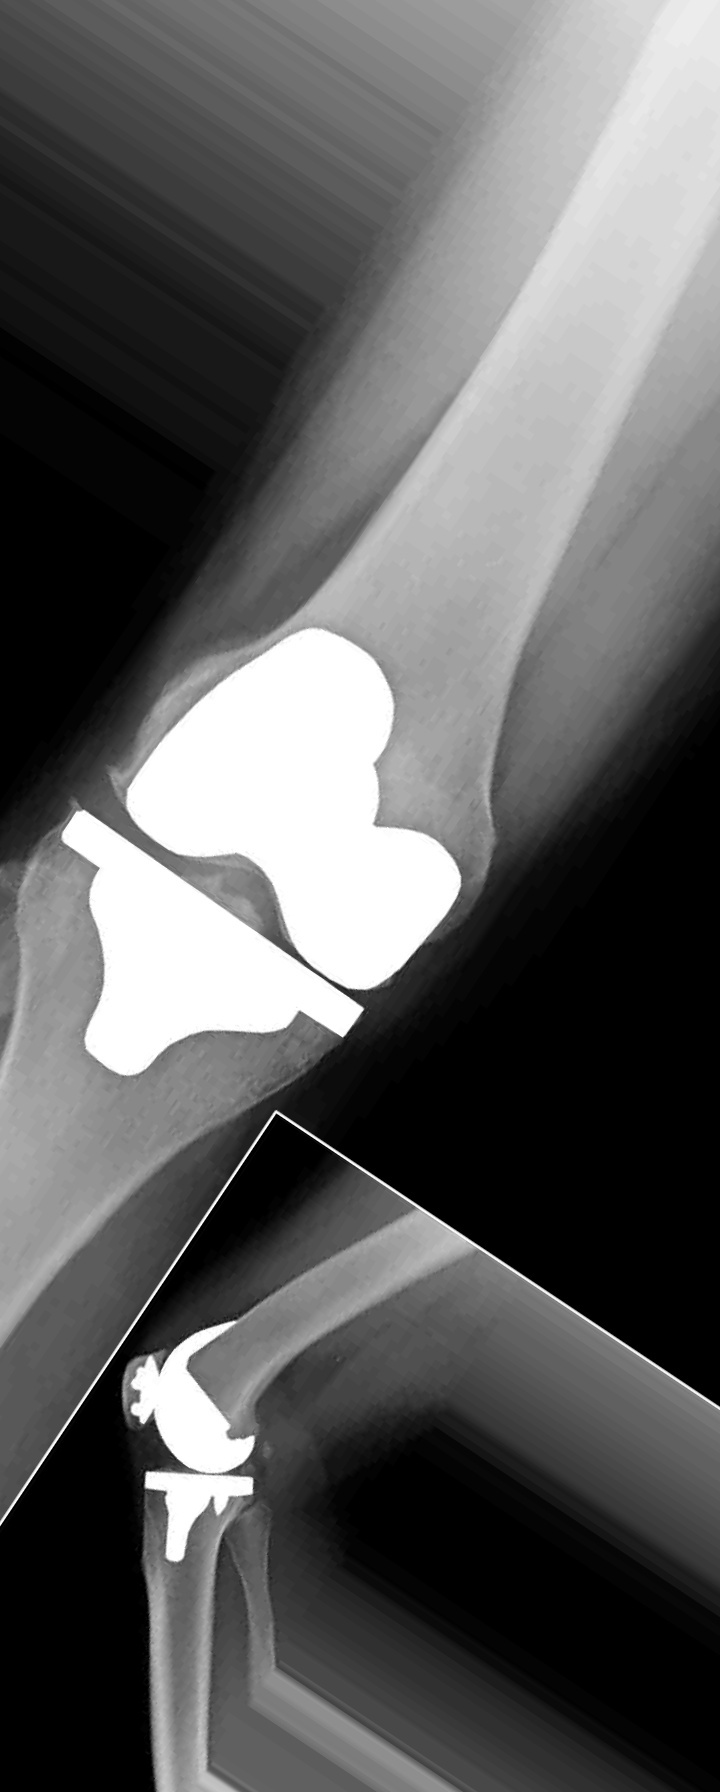Knee-TriathlonTritanium-Stryker: (51, 631, 462, 1079), (109, 1322, 261, 1566)
